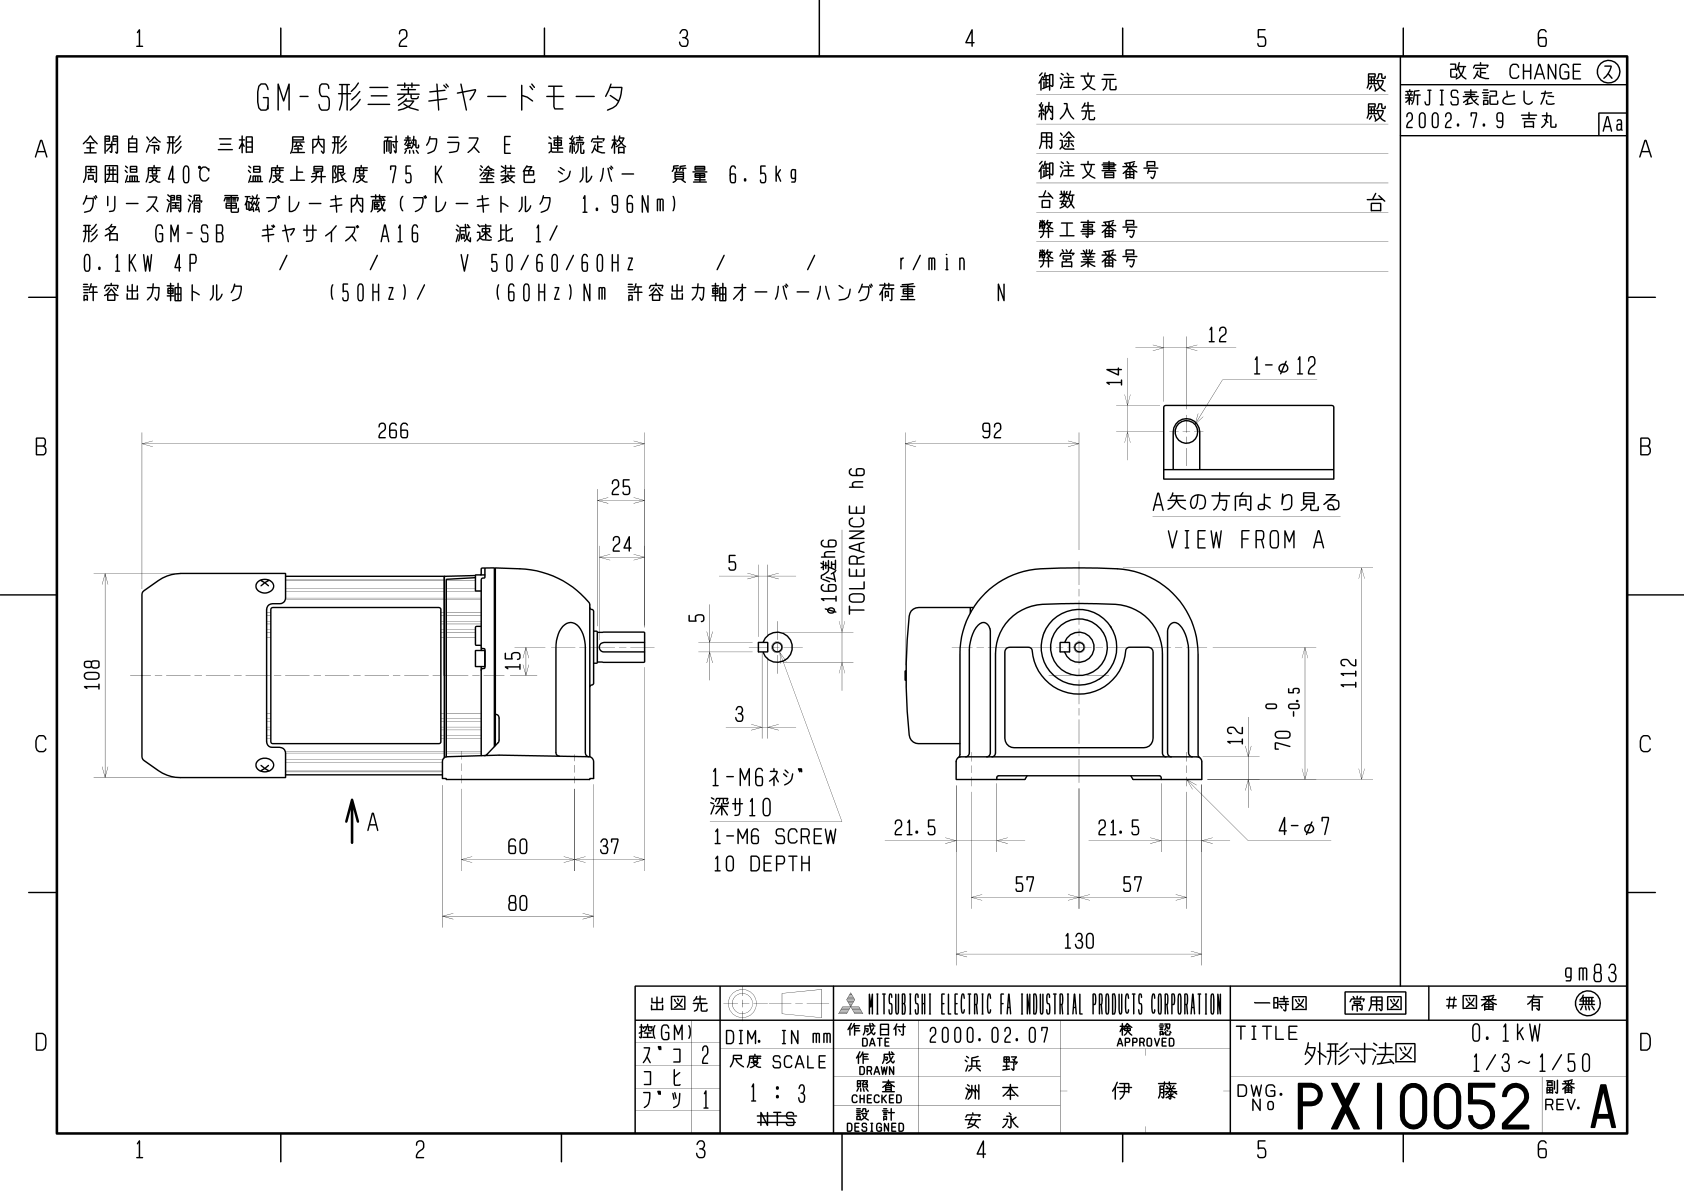GM_S_屋内＿三相_脚: (71, 318, 1385, 969)
